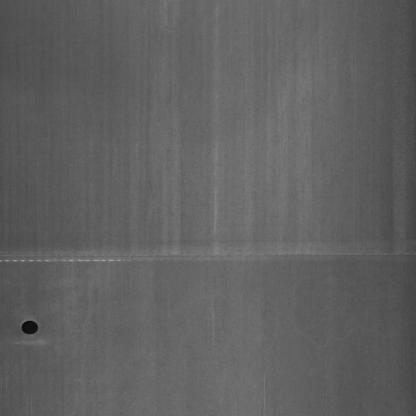punching_hole: (15, 313, 41, 340)
welding_line: (0, 237, 413, 281)
